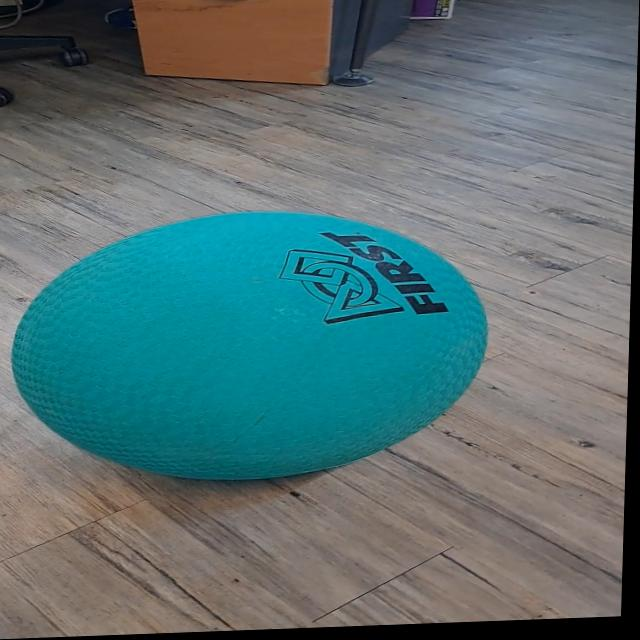ALGAE: (5, 200, 494, 490)
